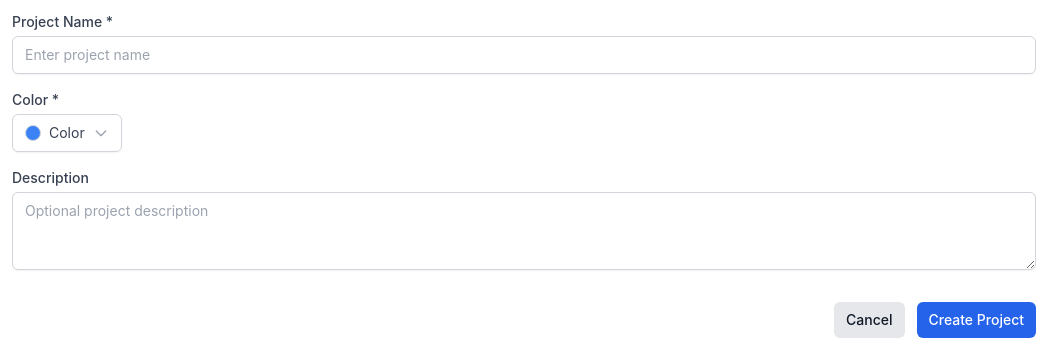
Test: ProjectForm › Form Actions › disables form during submission
This screenshot has width=1048, height=355.
In the field labelled "Project Name *": point(524, 55) [12,36,1036,74], type "Test Project"
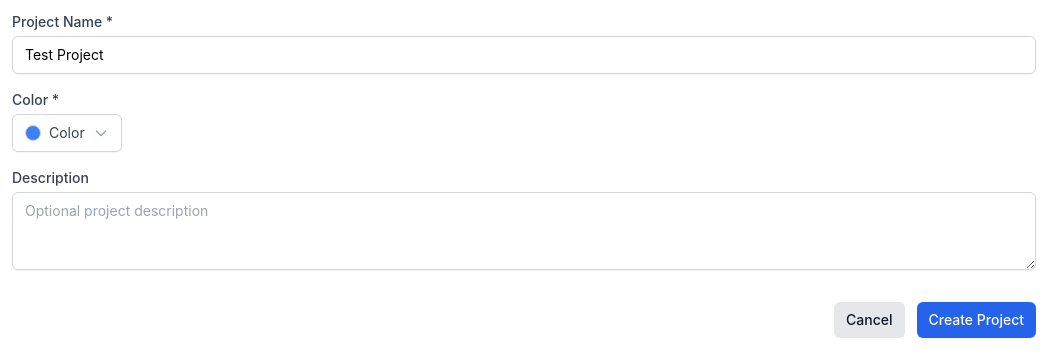
Click the button "Create Project": point(976, 320) [916,302,1036,338]
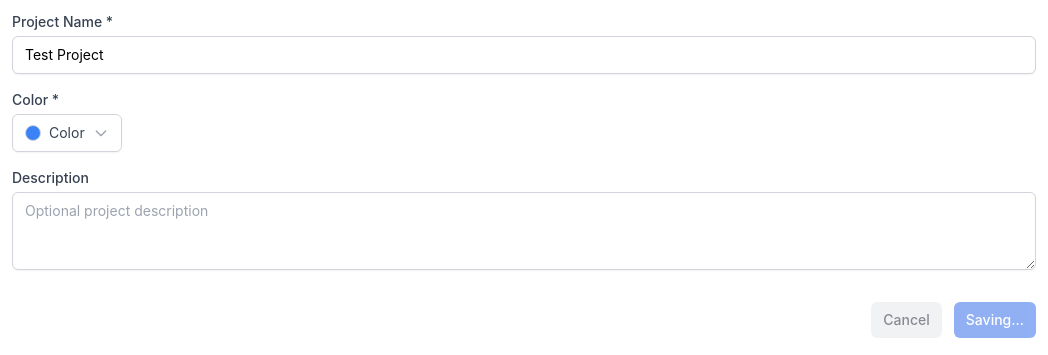
Expected: the button "Saving..." is disabled, [954,302,1036,338]
Expected: the button "Cancel" is disabled, [871,302,942,338]
